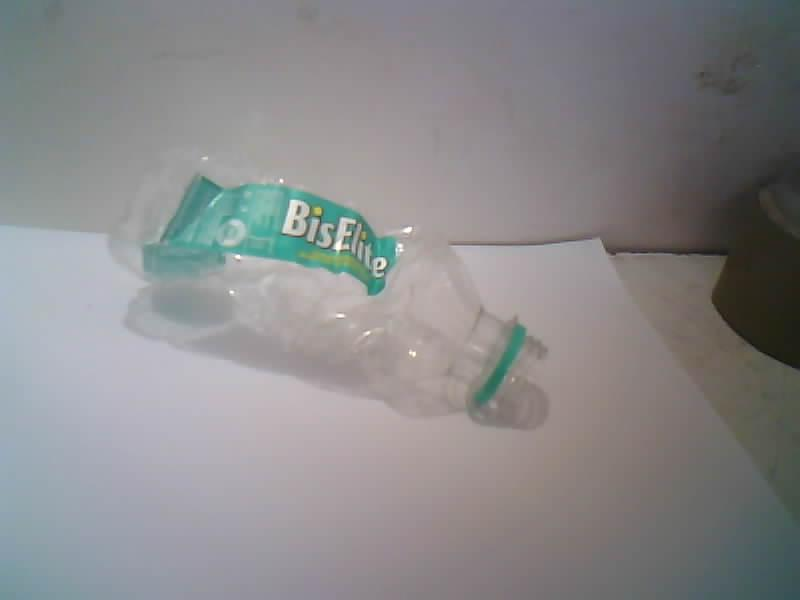non-biodegradable: (111, 173, 546, 428)
